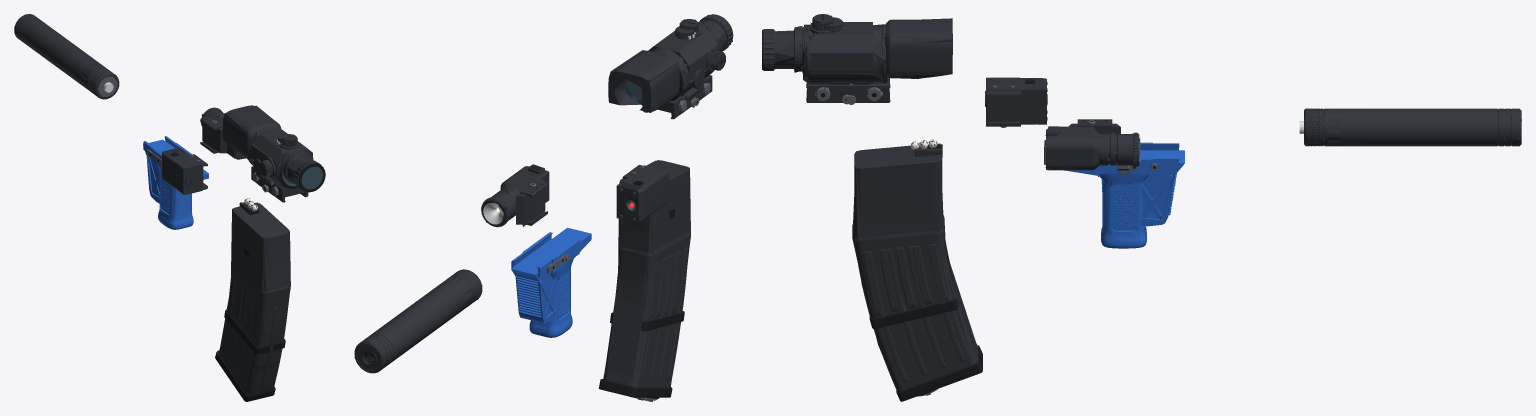
File: aeg.glb
3 renders of one model, left to right at view 1: azimuth 30°, elevation 25°; view 2: azimuth 150°, elevation 25°; view 3: azimuth 270°, elevation 25°, orthographic. The views are drawn at different scales.
Parts seen in each view (by area): view 1: magazine_hiCap, magazine_lowCap, muzzle_silencer, optic_scopeVar, optic_scope2x, magazine_hiCap_Figure, laser_redLaser, grip_vertical, optic_scopeVar_Figure, light_weaponTorch, grip_vertical_Figure, grip_angled (+6 smaller); view 2: magazine_hiCap, muzzle_silencer, optic_scopeVar, magazine_hiCap_Figure, optic_scope2x, grip_angled, magazine_lowCap, laser_redLaser, light_weaponTorch, grip_vertical, optic_scopeVar_Figure, magazine_lowCap_Figure (+6 smaller); view 3: magazine_hiCap, muzzle_silencer, magazine_lowCap, optic_scopeVar, optic_scope2x, light_weaponTorch, grip_vertical, laser_redLaser, magazine_hiCap_Figure, grip_angled, grip_vertical_Figure, magazine_lowCap_Figure (+5 smaller).
Boxes of the visible parts, left/top/right/bottom form: magazine_hiCap: left=215, top=199, right=290, bottom=401; magazine_lowCap: left=224, top=198, right=290, bottom=354; muzzle_silencer: left=14, top=14, right=119, bottom=99; optic_scopeVar: left=223, top=105, right=325, bottom=202; optic_scope2x: left=246, top=126, right=313, bottom=193; magazine_hiCap_Figure: left=219, top=198, right=290, bottom=401; laser_redLaser: left=162, top=147, right=207, bottom=194; grip_vertical: left=152, top=143, right=193, bottom=229; optic_scopeVar_Figure: left=223, top=105, right=322, bottom=202; light_weaponTorch: left=200, top=107, right=246, bottom=159; grip_vertical_Figure: left=153, top=143, right=193, bottom=229; grip_angled: left=143, top=136, right=208, bottom=203; magazine_hiCap: left=599, top=160, right=690, bottom=401; muzzle_silencer: left=354, top=269, right=482, bottom=373; optic_scopeVar: left=608, top=14, right=733, bottom=119; magazine_hiCap_Figure: left=598, top=160, right=690, bottom=400; optic_scope2x: left=648, top=19, right=725, bottom=112; grip_angled: left=511, top=227, right=591, bottom=323; magazine_lowCap: left=610, top=160, right=690, bottom=331; laser_redLaser: left=616, top=165, right=668, bottom=222; light_weaponTorch: left=481, top=164, right=549, bottom=227; grip_vertical: left=523, top=232, right=579, bottom=337; optic_scopeVar_Figure: left=609, top=16, right=732, bottom=118; magazine_lowCap_Figure: left=610, top=167, right=690, bottom=331; magazine_hiCap: left=852, top=139, right=982, bottom=401; muzzle_silencer: left=1304, top=108, right=1521, bottom=146; magazine_lowCap: left=852, top=139, right=958, bottom=328; optic_scopeVar: left=762, top=17, right=952, bottom=102; optic_scope2x: left=803, top=14, right=886, bottom=104; light_weaponTorch: left=1044, top=119, right=1139, bottom=170; grip_vertical: left=1095, top=142, right=1152, bottom=248; laser_redLaser: left=985, top=78, right=1047, bottom=127; magazine_hiCap_Figure: left=853, top=140, right=981, bottom=401; grip_angled: left=1064, top=143, right=1184, bottom=226; grip_vertical_Figure: left=1095, top=150, right=1152, bottom=248; magazine_lowCap_Figure: left=852, top=140, right=957, bottom=328.
Size of the model in its own units: 0.1032 by 0.2857 by 0.5236.
